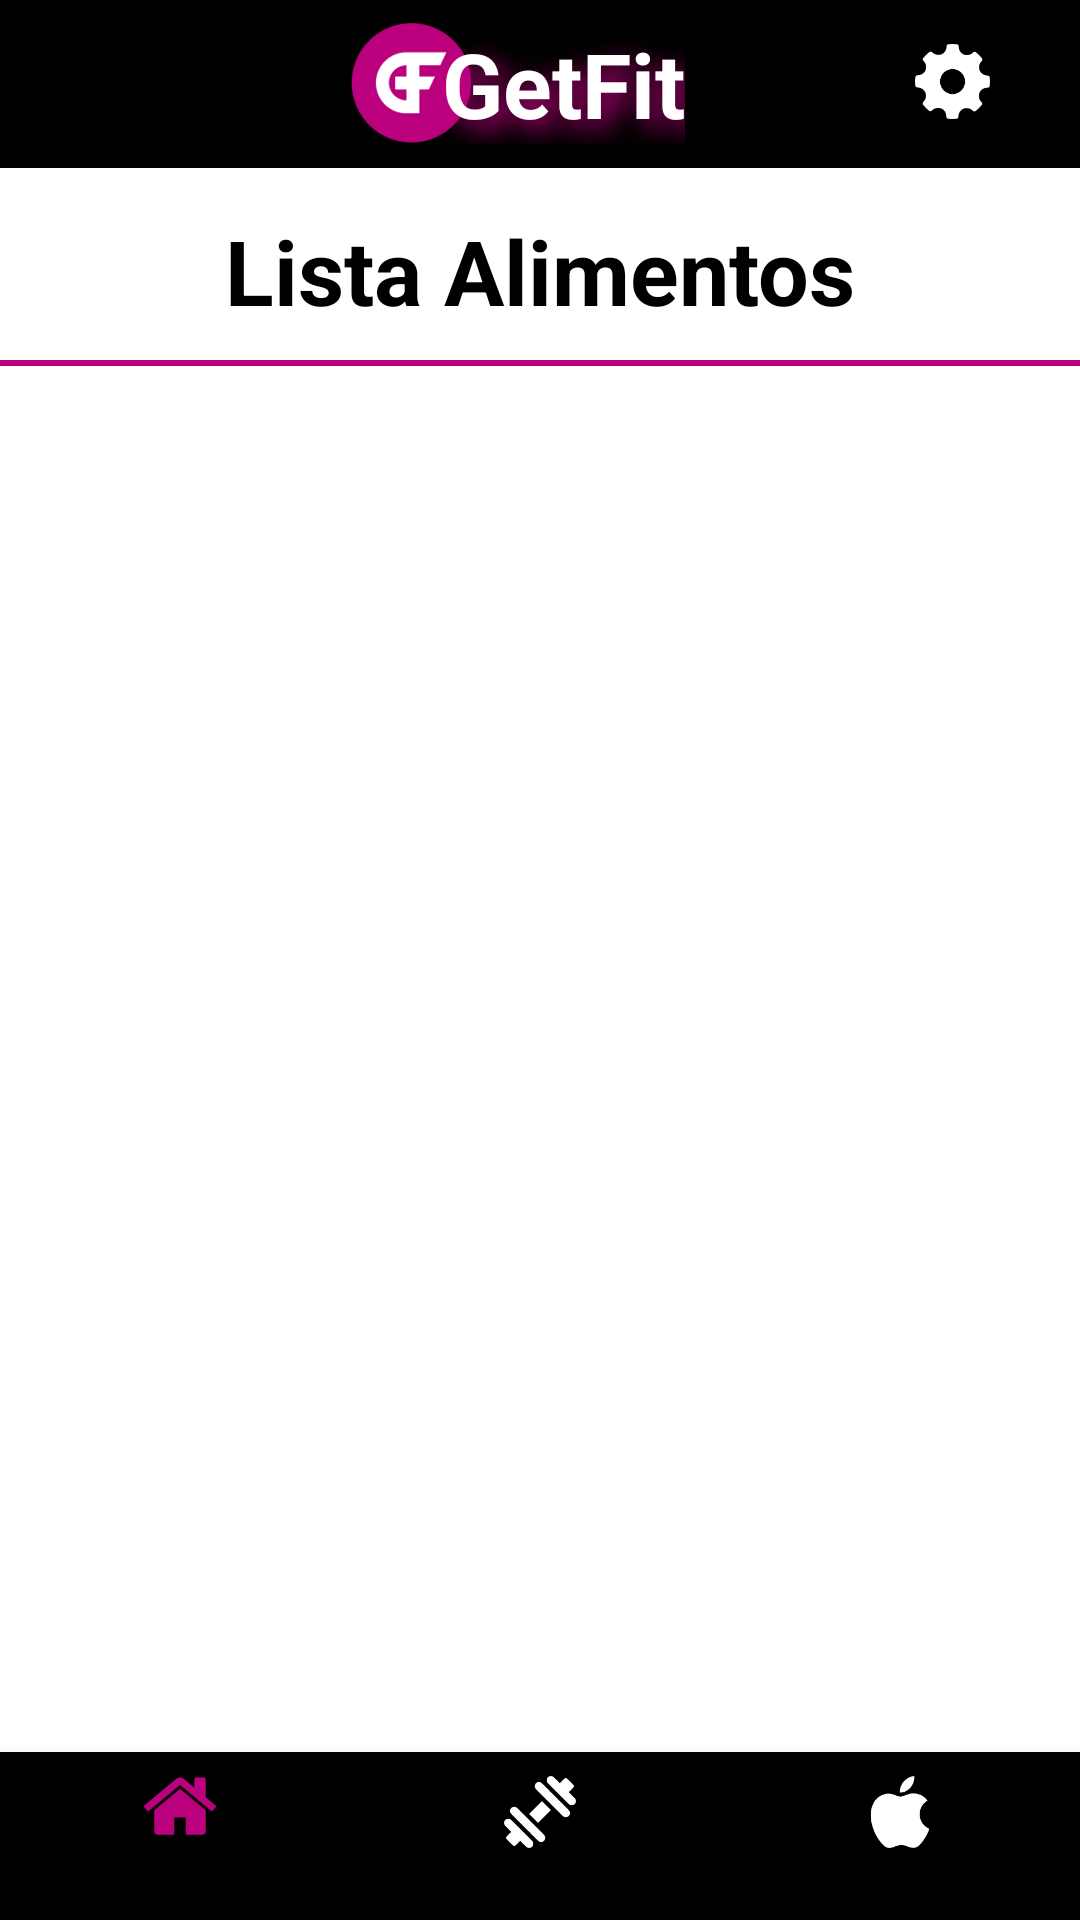

Icon bounding boxes for this 1080*1920 phone screenshot, format (x1, y1, x2, y2):
ajustes: (915, 44, 990, 119)
